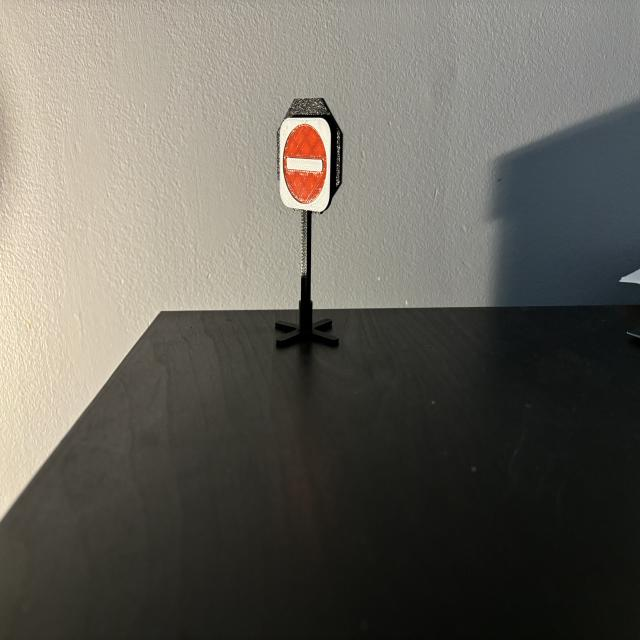sign_noentry: (281, 118, 332, 213)
